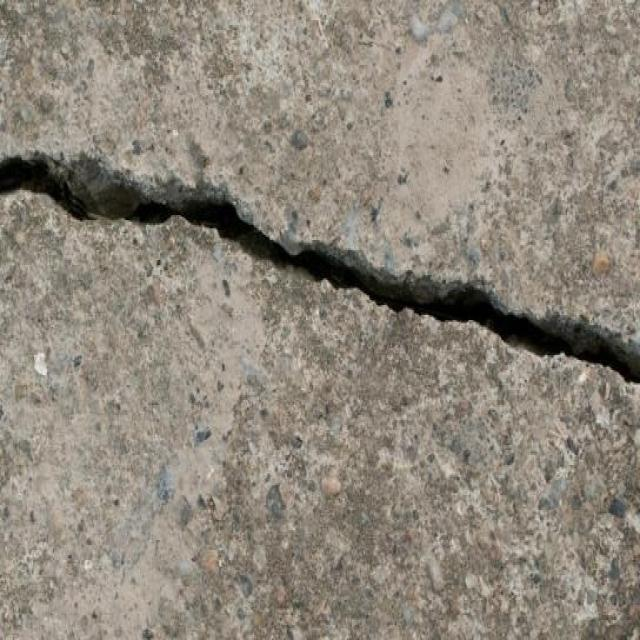Transverse: (0, 121, 640, 414)
